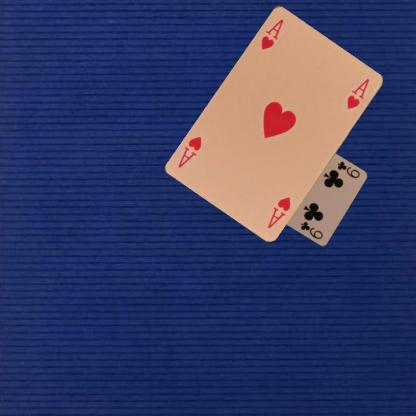9c: (335, 159, 361, 180)
Ah: (264, 194, 292, 230), (258, 15, 285, 50)
